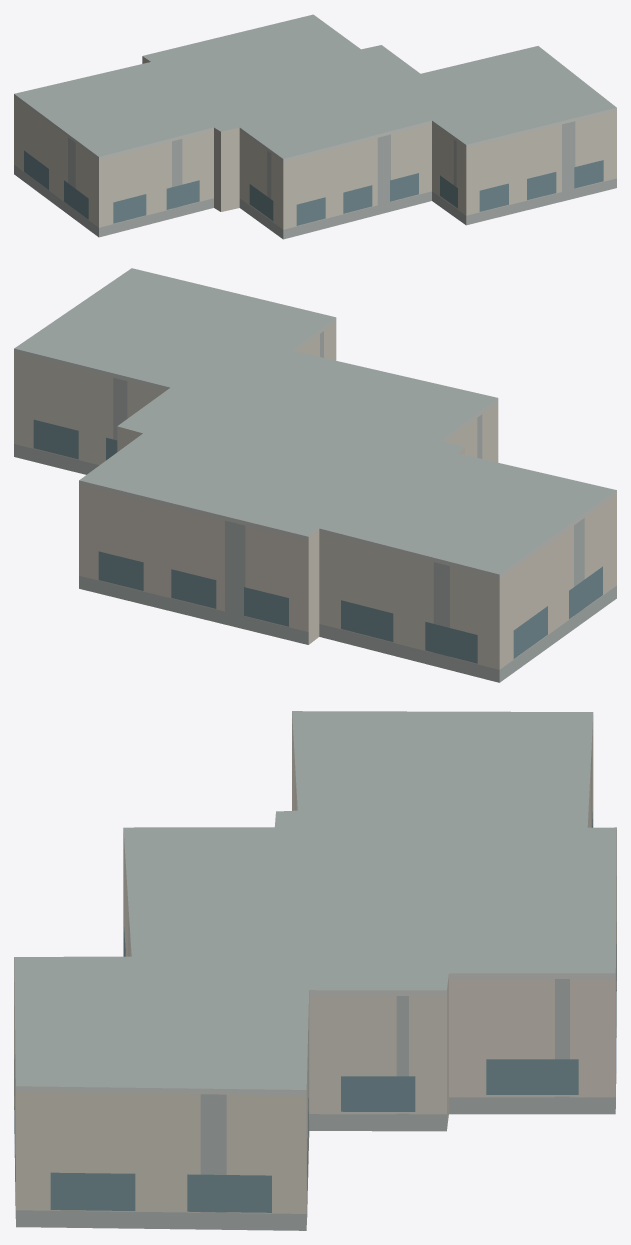
File: survey-upis-32642193.glb
The picture shows the model from 3 angles, top to bottom: view 1: azimuth 30°, elevation 25°; view 2: azimuth 150°, elevation 25°; view 3: azimuth 270°, elevation 25°; orthographic projection. The views are drawn at different scales.
Visible parts, largest first — view 1: survey-upis-32642193.tmp; view 2: survey-upis-32642193.tmp; view 3: survey-upis-32642193.tmp.
Part boxes in pixels (<box>): survey-upis-32642193.tmp: <box>14,14,616,239</box>; survey-upis-32642193.tmp: <box>14,268,616,682</box>; survey-upis-32642193.tmp: <box>14,711,616,1230</box>.
Bounding box in the file's own units: 35.21 × 6.1 × 23.67.
